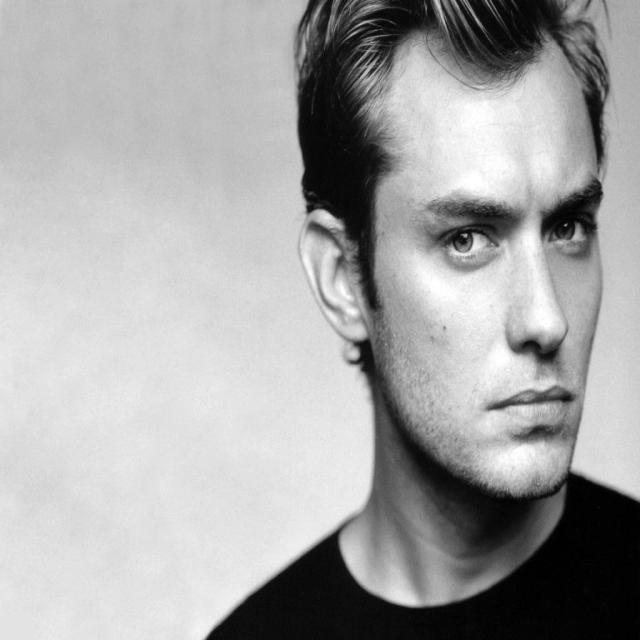no-earmuff: (290, 195, 396, 355)
